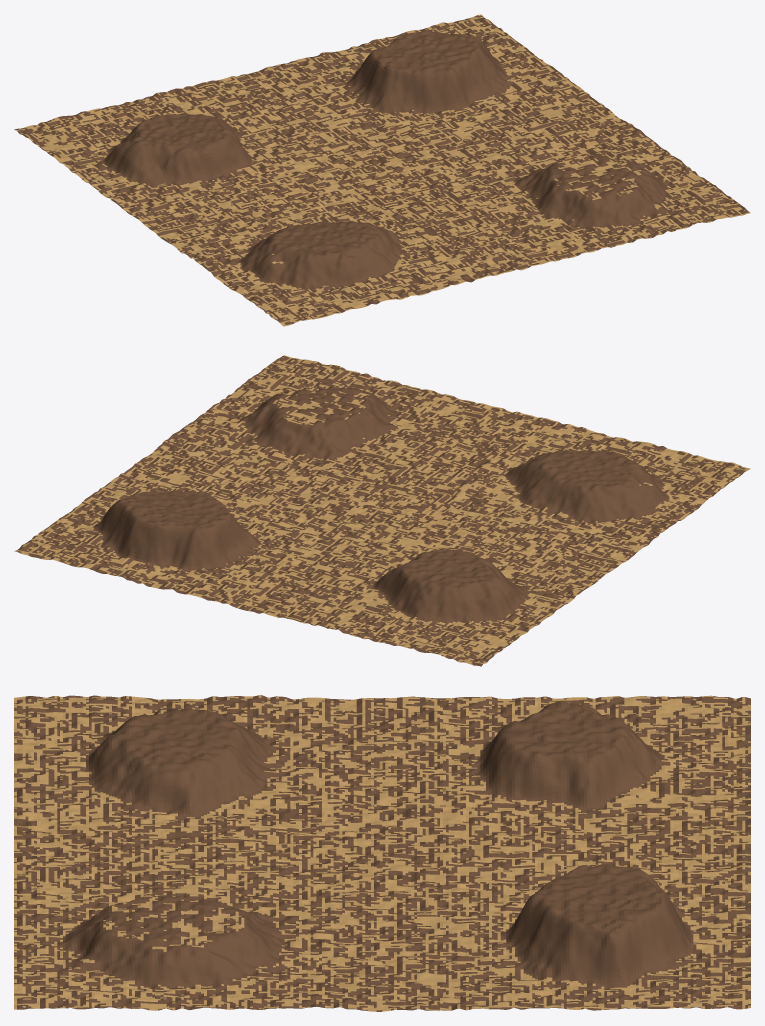
File: AridBasin_Terrain.obj
The picture shows the model from 3 angles, top to bottom: view 1: azimuth 30°, elevation 25°; view 2: azimuth 150°, elevation 25°; view 3: azimuth 270°, elevation 25°; orthographic projection. The views are drawn at different scales.
Visible parts, largest first — view 1: AridBasin_Terrain; view 2: AridBasin_Terrain; view 3: AridBasin_Terrain.
Part boxes in pixels (x1=…): AridBasin_Terrain: x1=14, y1=14, x2=750, y2=326; AridBasin_Terrain: x1=14, y1=355, x2=750, y2=666; AridBasin_Terrain: x1=14, y1=695, x2=750, y2=1011.
Bounding box in the file's own units: 51200 × 3598 × 51200.
